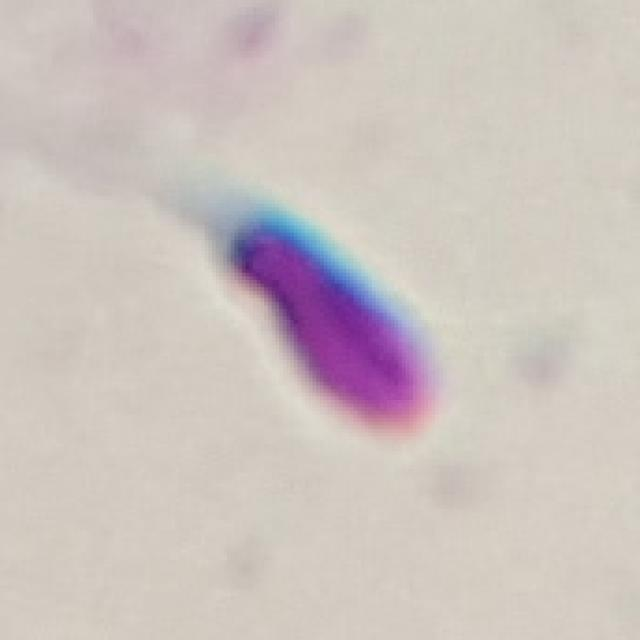abnormal sperm: (121, 61, 468, 490)
